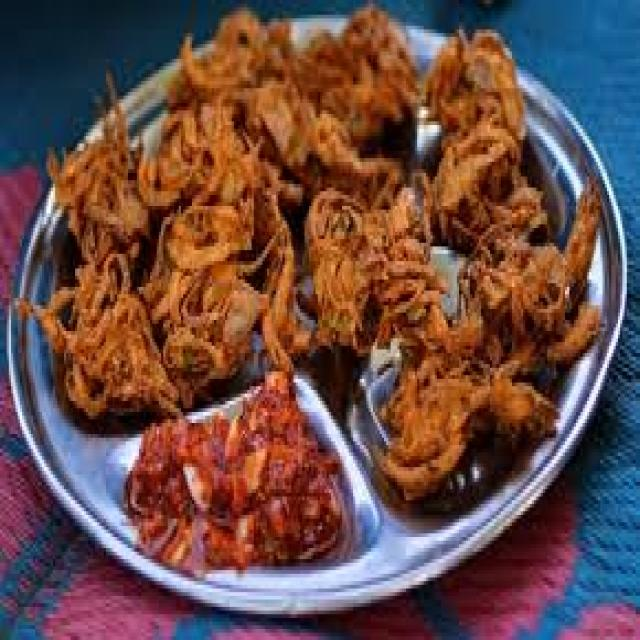BAJI: (14, 0, 605, 496)
